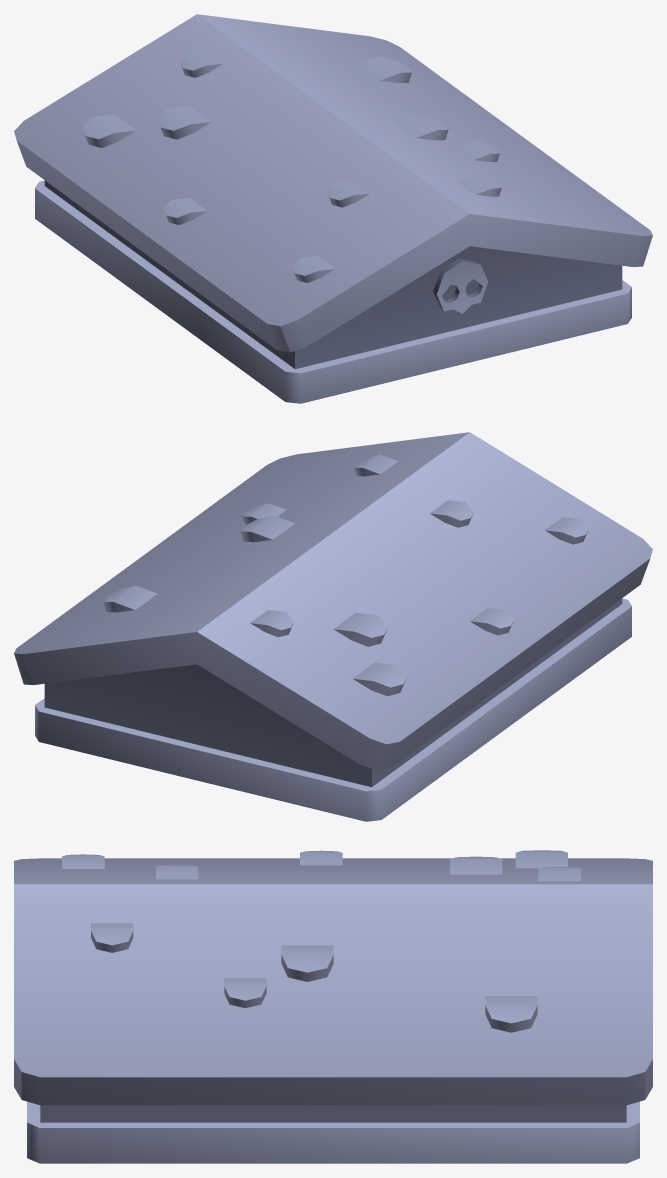
File: crypt-large-roof.003_lev2.glb
3 renders of one model, top to bottom at view 1: azimuth 30°, elevation 25°; view 2: azimuth 150°, elevation 25°; view 3: azimuth 270°, elevation 25°, orthographic. The views are drawn at different scales.
Visible parts, largest first — view 1: crypt-large-roof.003_lev2; view 2: crypt-large-roof.003_lev2; view 3: crypt-large-roof.003_lev2.
Part boxes in pixels (x1=…): crypt-large-roof.003_lev2: x1=14, y1=14, x2=652, y2=403; crypt-large-roof.003_lev2: x1=14, y1=432, x2=652, y2=821; crypt-large-roof.003_lev2: x1=14, y1=850, x2=652, y2=1163.
Bounding box in the file's own units: 15.81 × 6.07 × 19.5.
1 material, 1 textured.
